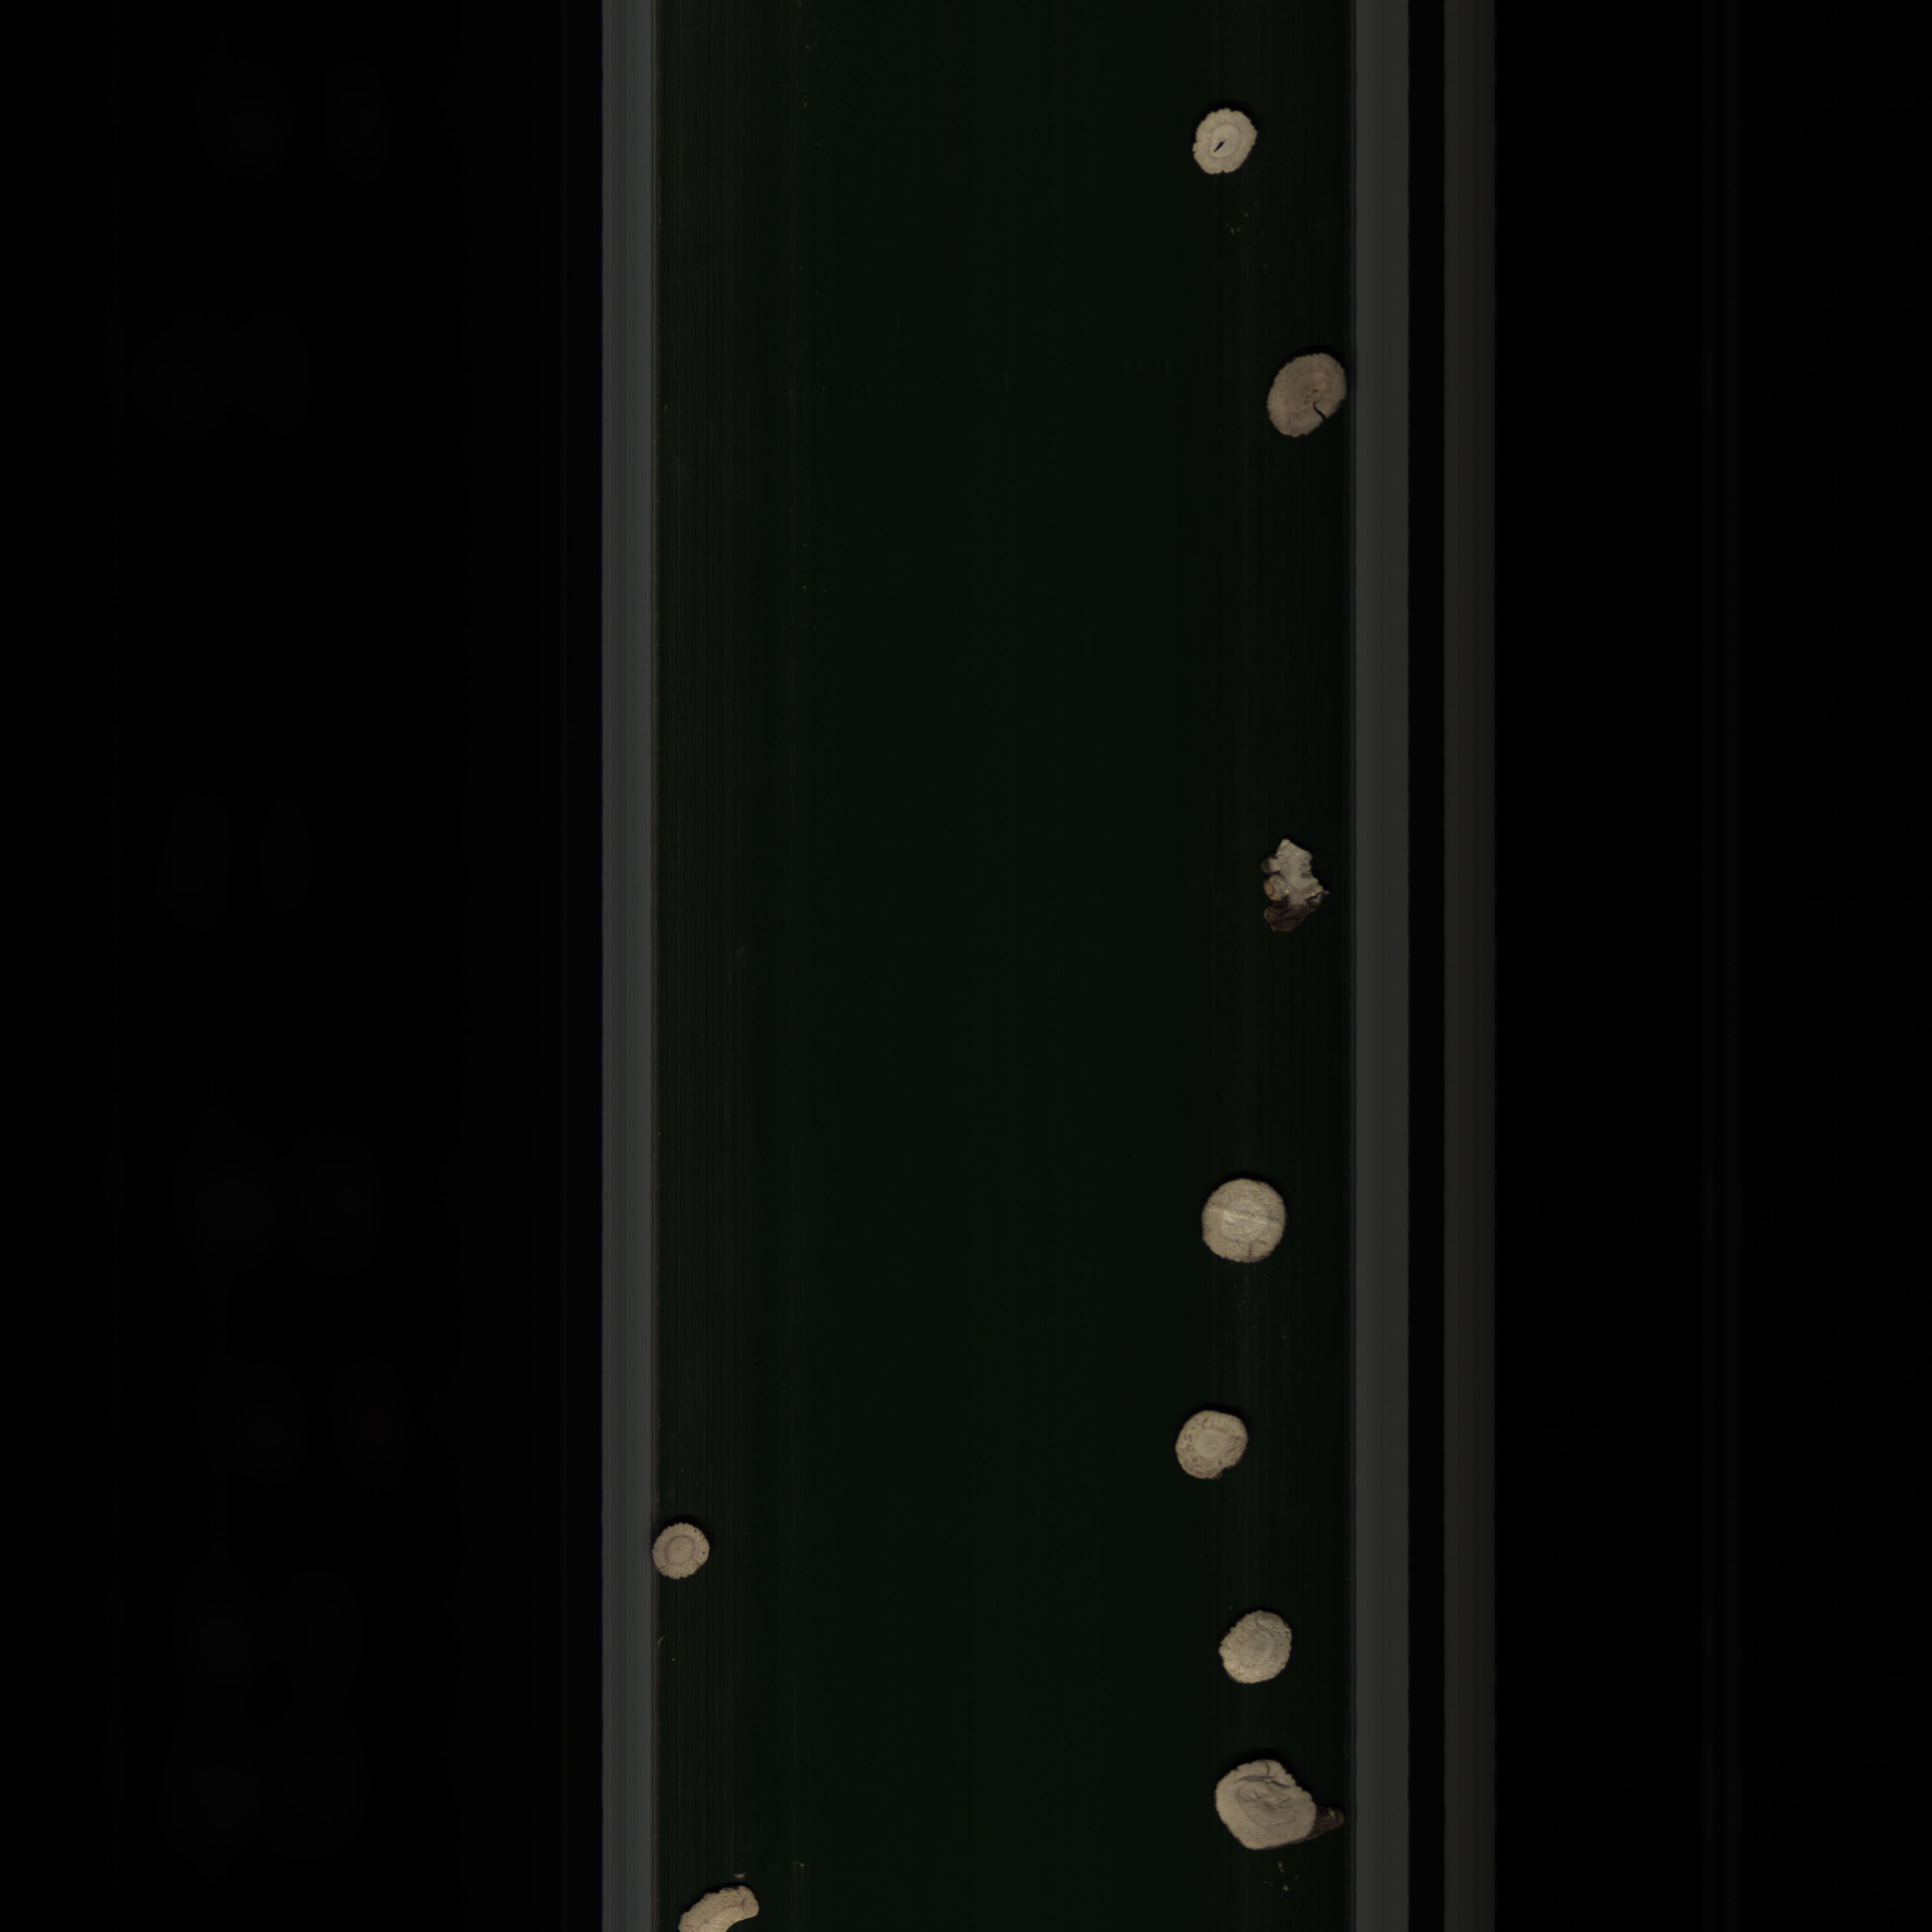bark: (1254, 821, 1330, 939)
debris: (658, 1868, 778, 1932)
distortion: (1200, 1746, 1355, 1863)
hole: (1191, 106, 1258, 191)
moldy: (1260, 349, 1355, 446)
